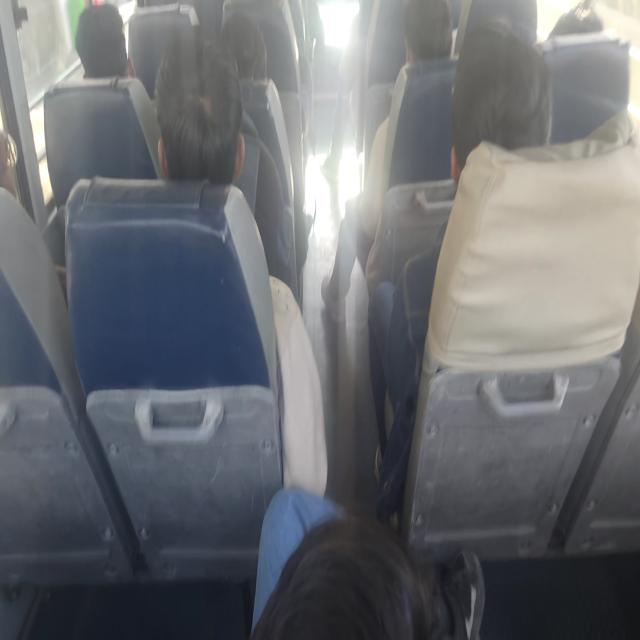person: (367, 20, 553, 519), (152, 28, 328, 496), (320, 0, 457, 319), (152, 29, 298, 301), (250, 486, 485, 638), (152, 30, 245, 184), (74, 2, 135, 78), (220, 10, 268, 86), (547, 0, 604, 39), (0, 127, 20, 202)
